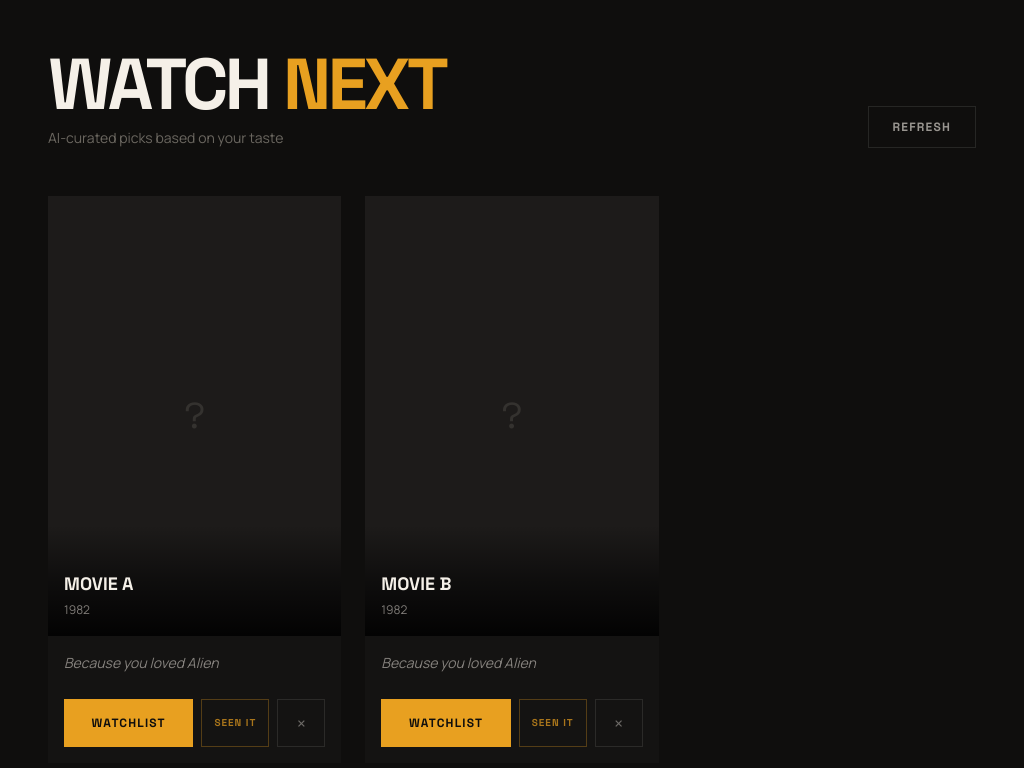
it: Suggestions › dismisses one suggestion while leaving the other visible
The image size is (1024, 768).
Check: the heading "Movie A" is shown, box [64,572,133,596]
Click the button titled "Dismiss" below "Movie A" at (301, 723), box [277,699,325,747]
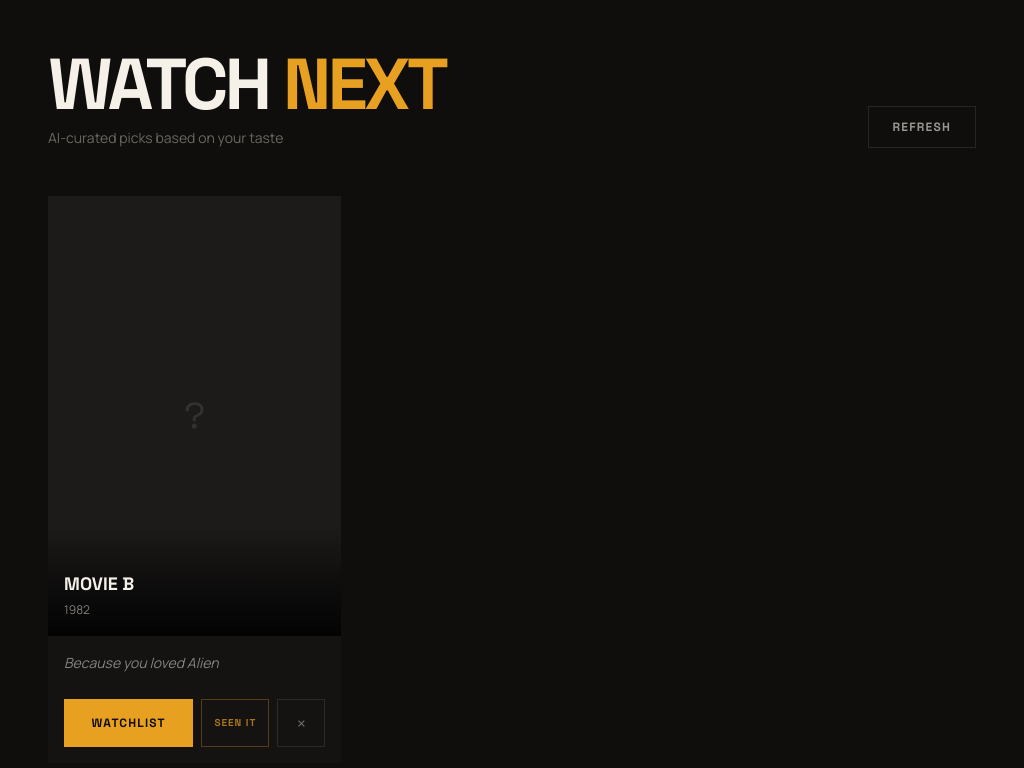
Check: the heading "Movie B" is shown, box [64,572,134,596]
Check: the heading "Movie A" is gone
